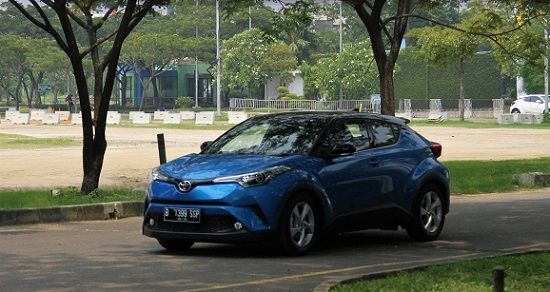plate: (164, 206, 200, 223)
